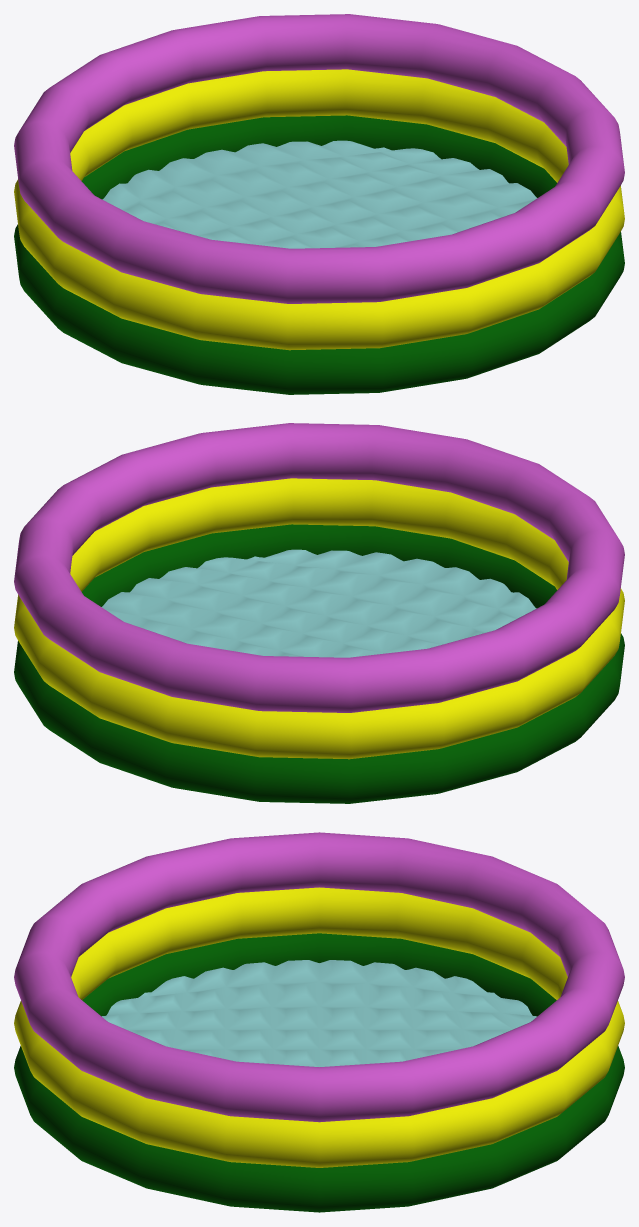
The model's file is bath tub.fbx.
The picture shows the model from 3 angles, top to bottom: view 1: azimuth 30°, elevation 25°; view 2: azimuth 150°, elevation 25°; view 3: azimuth 270°, elevation 25°; orthographic projection.
Parts seen in each view (by area): view 1: pTorus1, pTorus2, pTorus3, pPlane1; view 2: pTorus1, pTorus2, pTorus3, pPlane1; view 3: pTorus1, pTorus2, pTorus3, pPlane1.
Boxes of the visible parts, x1,y1,x2,y2 form: pTorus1: (14,14,624,303); pTorus2: (14,69,624,350); pTorus3: (14,115,624,394); pPlane1: (102,140,537,248); pTorus1: (14,423,624,712); pTorus2: (14,478,624,759); pTorus3: (14,524,624,803); pPlane1: (101,549,536,657); pTorus1: (14,832,624,1122); pTorus2: (14,887,624,1167); pTorus3: (14,933,624,1212); pPlane1: (102,960,536,1066).
Size of the model in its own units: 4.16 by 1.06 by 4.16.
